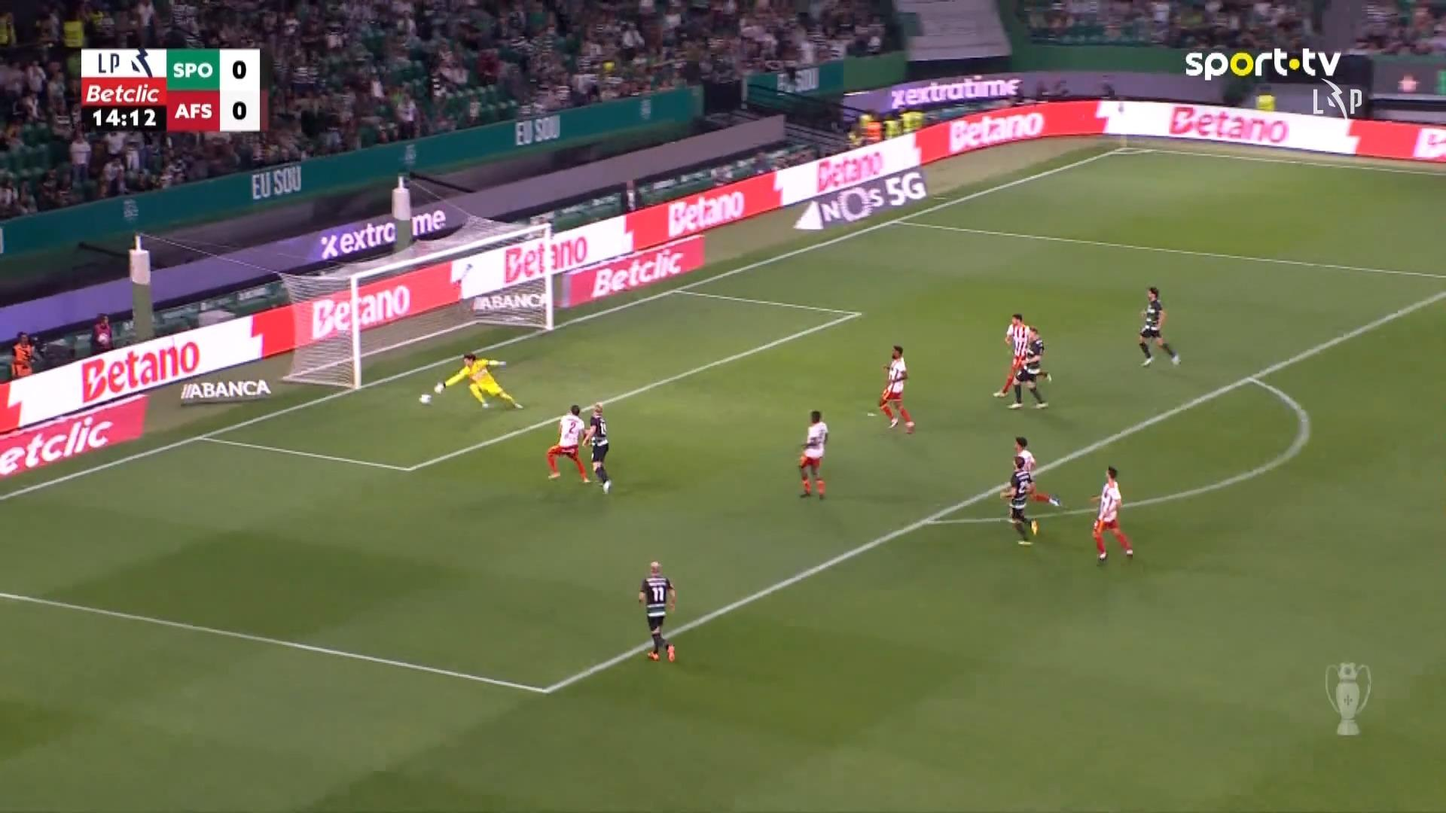ball: (419, 393, 432, 405)
goalkeeper: (433, 352, 523, 410)
player: (999, 435, 1060, 545), (1089, 465, 1133, 562), (637, 559, 676, 662), (1007, 325, 1051, 409), (545, 403, 590, 484), (1137, 285, 1181, 367), (877, 344, 914, 433), (992, 312, 1030, 398), (797, 410, 828, 499), (583, 402, 612, 494)
